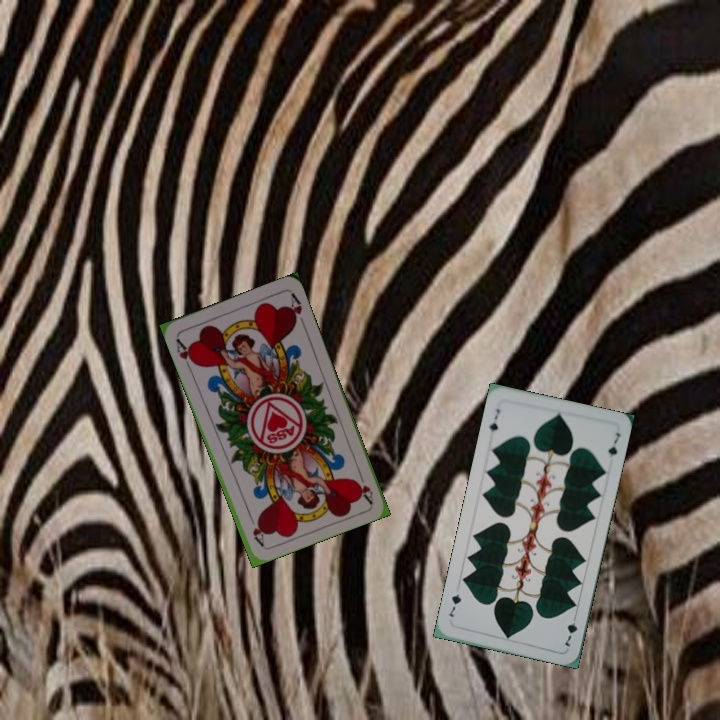G7: (561, 610, 580, 649), (485, 405, 502, 435)
HA: (172, 334, 199, 373), (351, 466, 376, 505)
